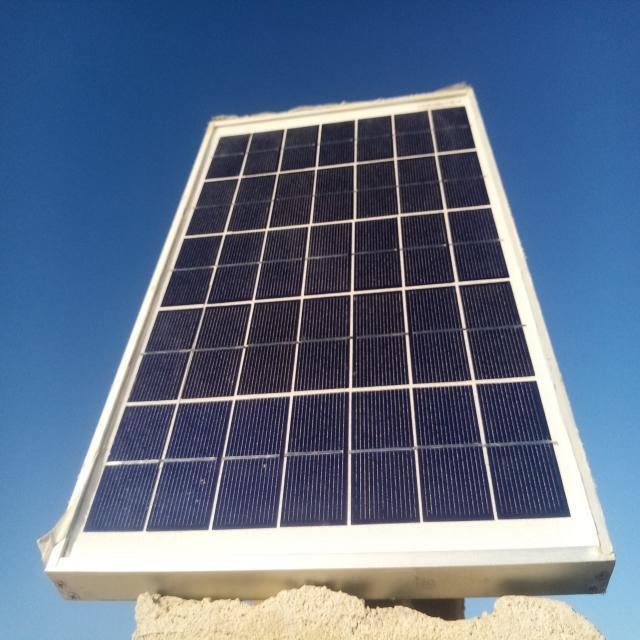Normal Solar Panel: (51, 90, 614, 572)
